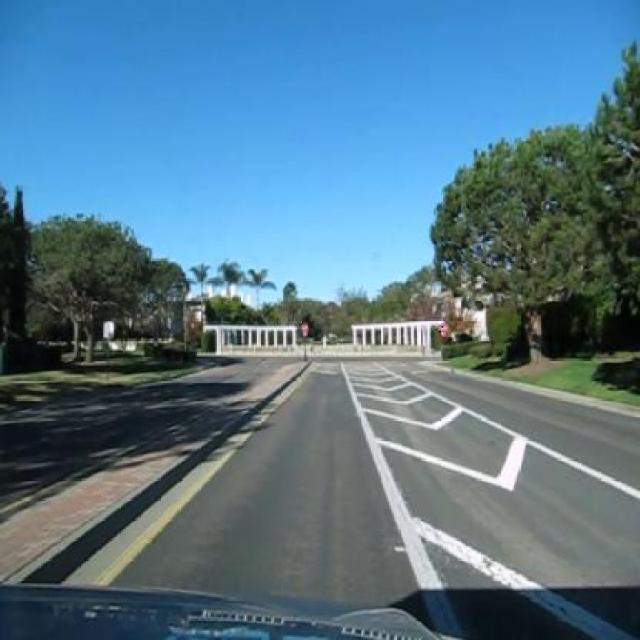stop: (439, 322, 448, 336), (300, 323, 309, 335)
